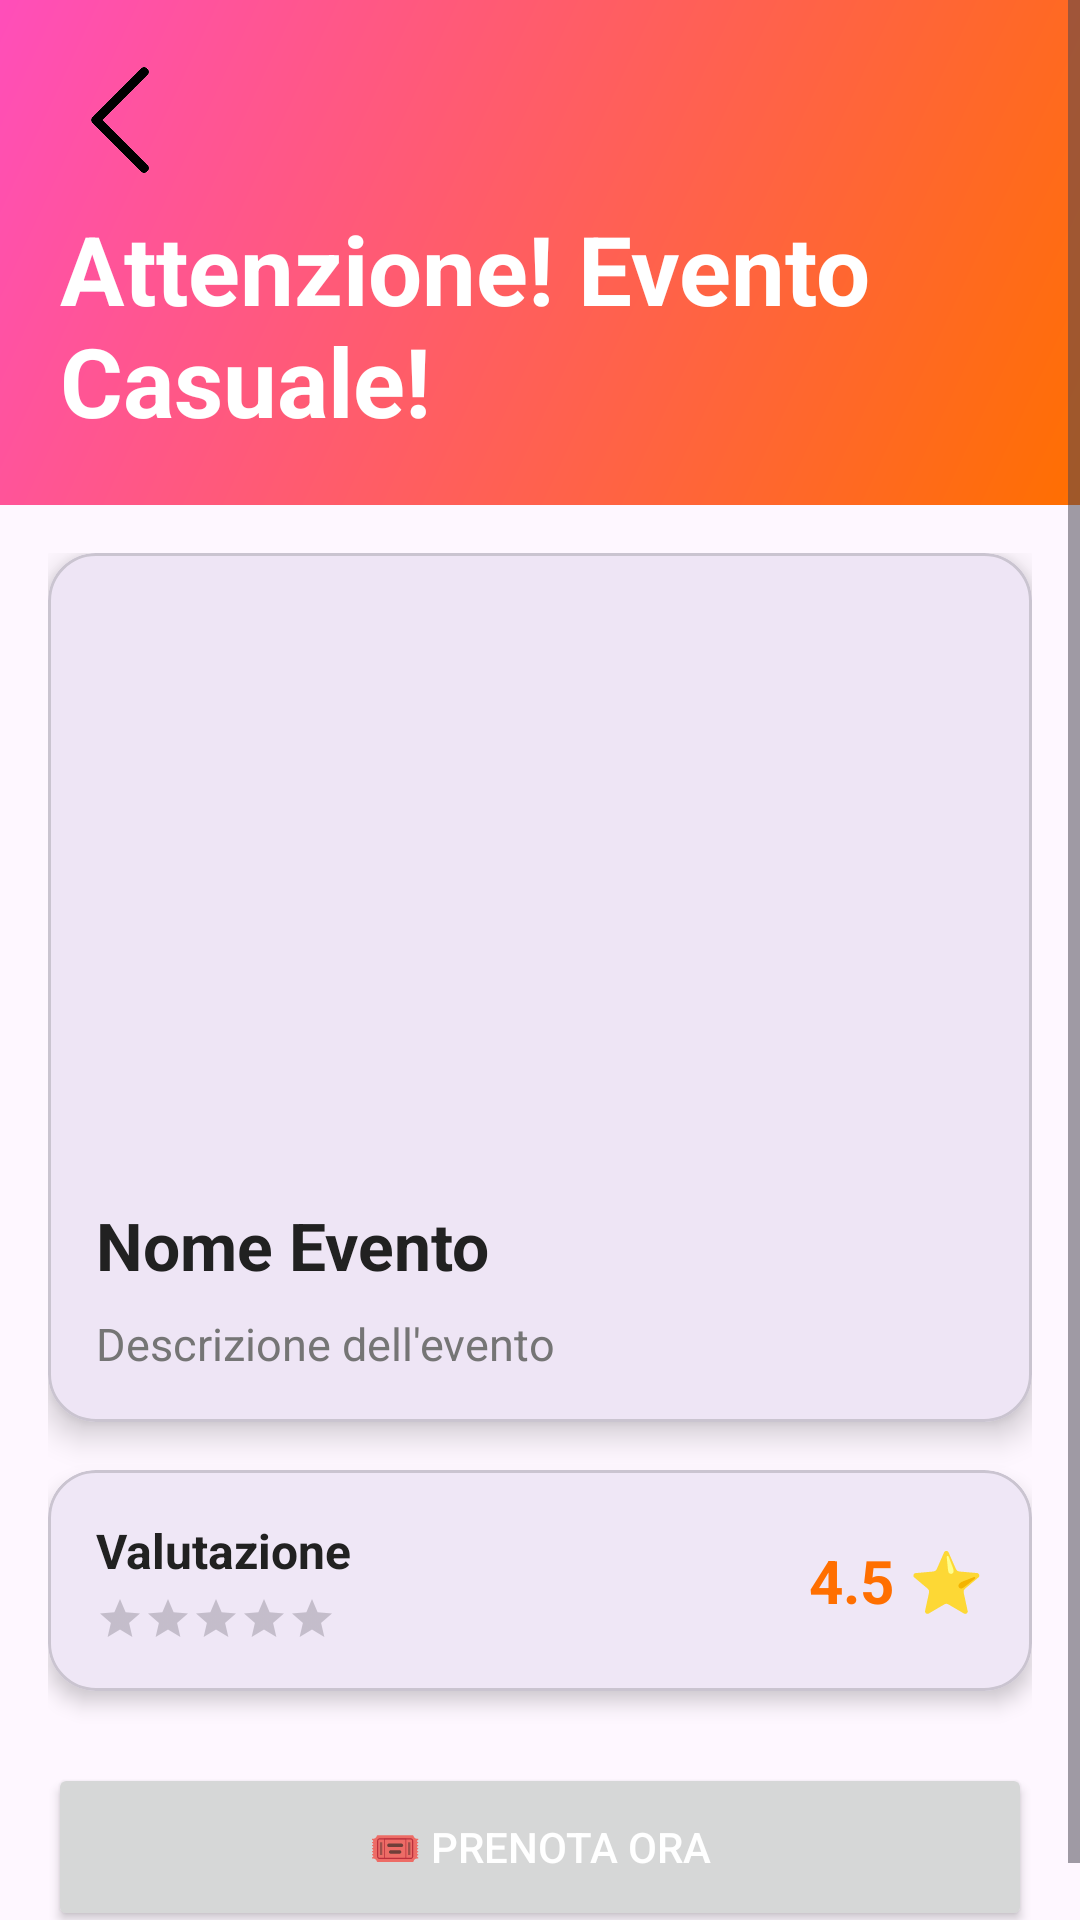

Named icons in this screenshot (1080px x 1920px) and their centers, point (x, y):
back nobg: point (120, 120)
